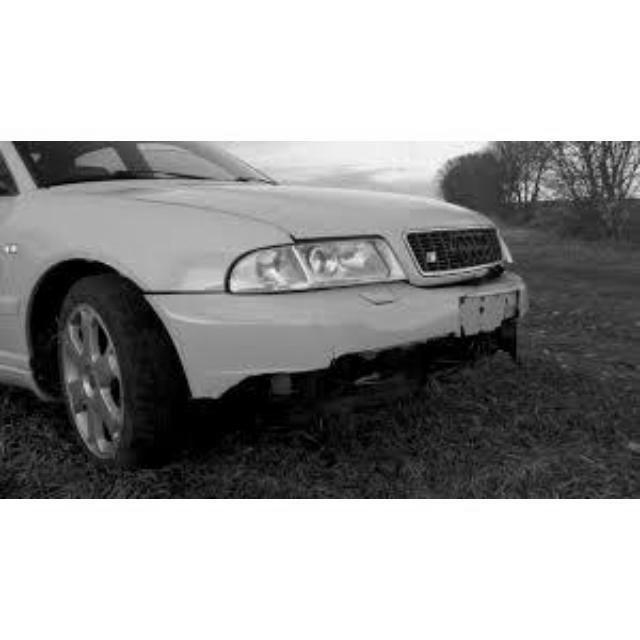front-bumper-dent: (218, 291, 531, 431)
